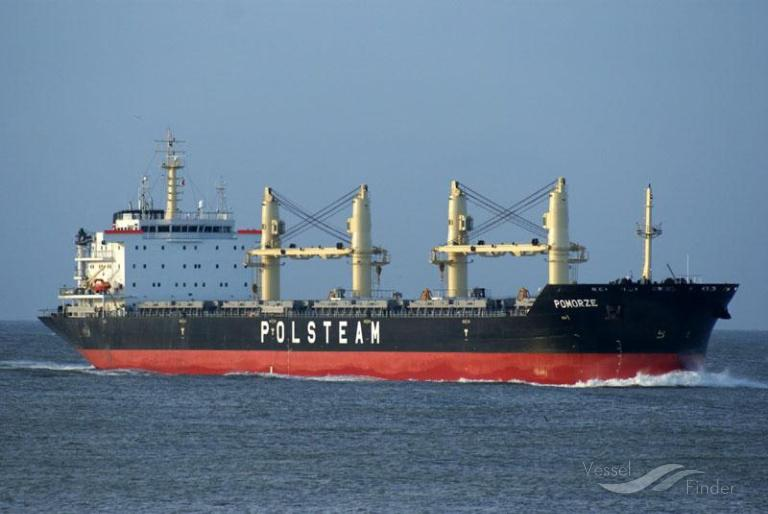OCR: (256, 315, 388, 352), (550, 292, 598, 312)
